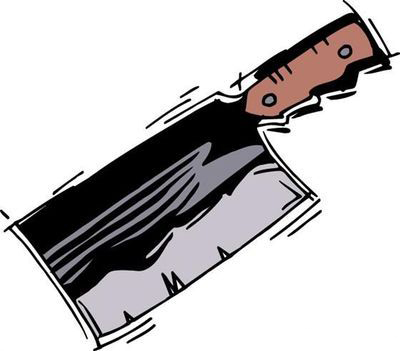knief: (48, 20, 382, 340)
